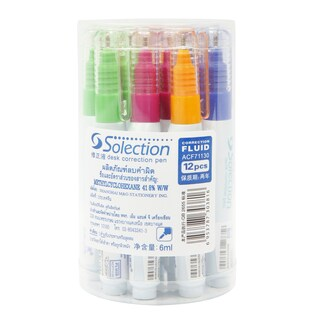Correction_fluid: (160, 25, 210, 296), (125, 24, 167, 301), (91, 26, 131, 296), (199, 23, 240, 285)
